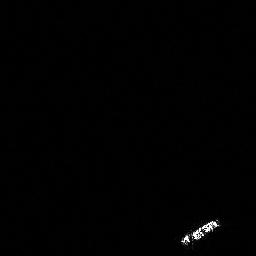ship: (179, 215, 221, 246)
